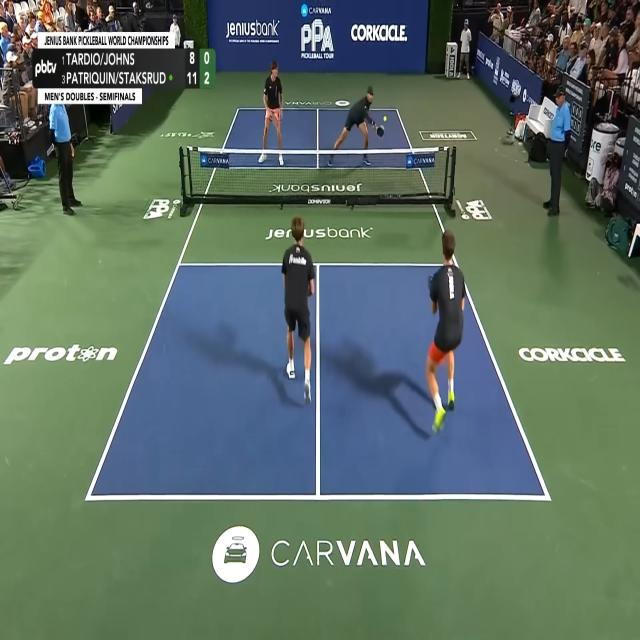ball: (383, 114, 387, 123)
